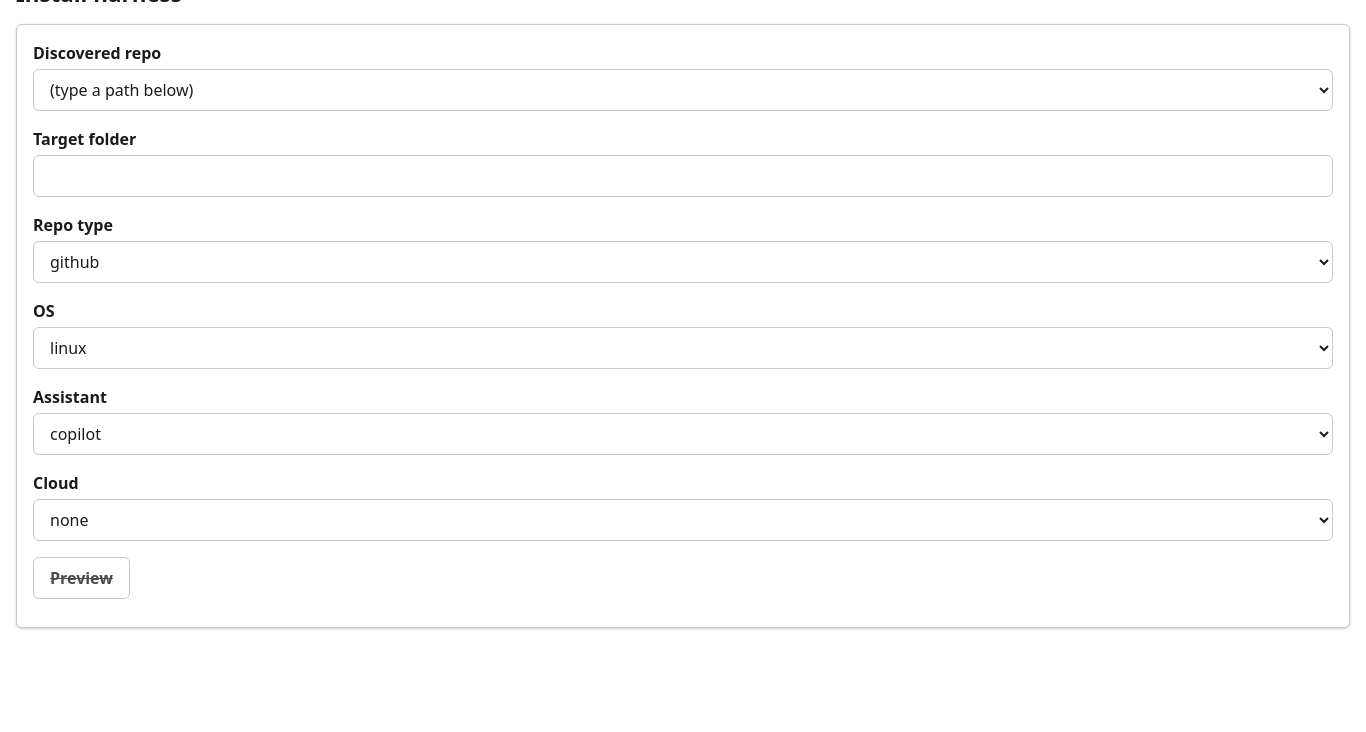
Scenario: preview, required overwrite, install, then rescan
In the field labelled "Target folder": point(683, 176) [33,155,1333,197], type "/repo"
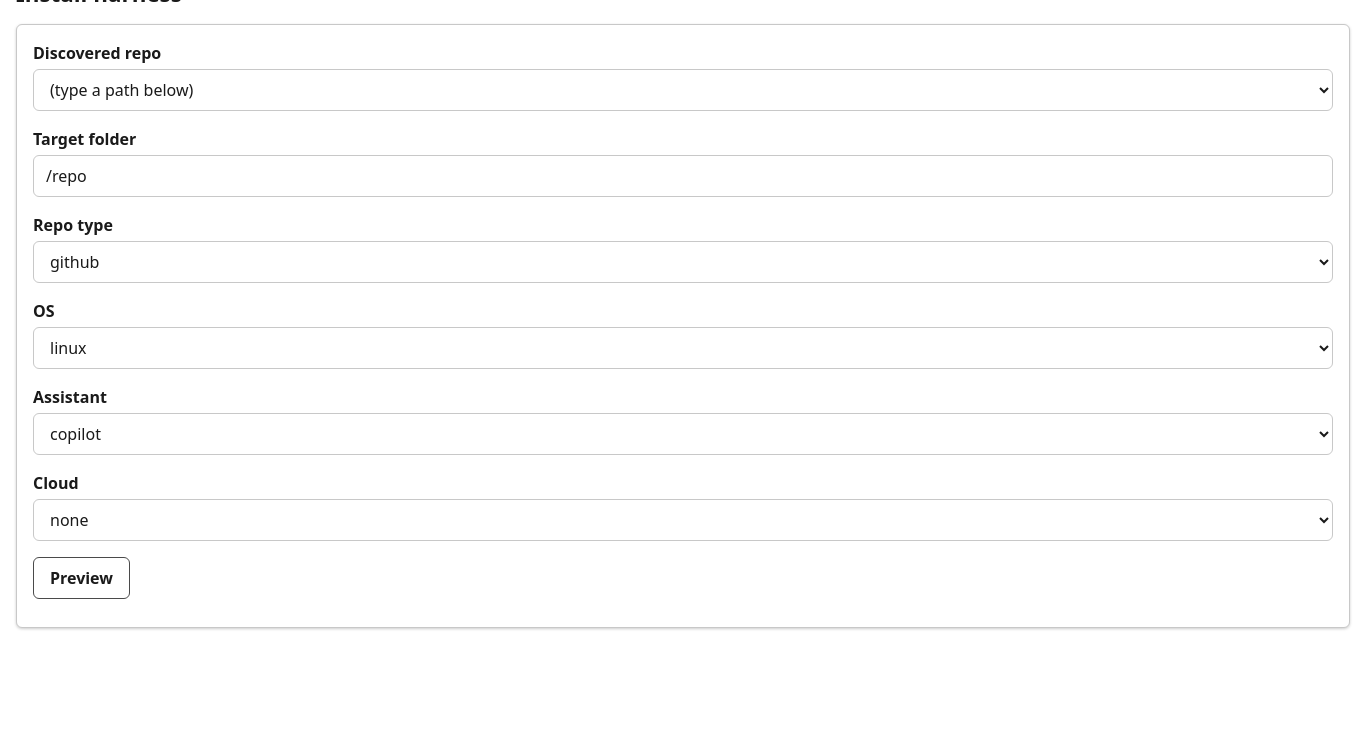
Select "aws" in the dropdown labelled "Cloud": point(683, 520) [33,499,1333,541]
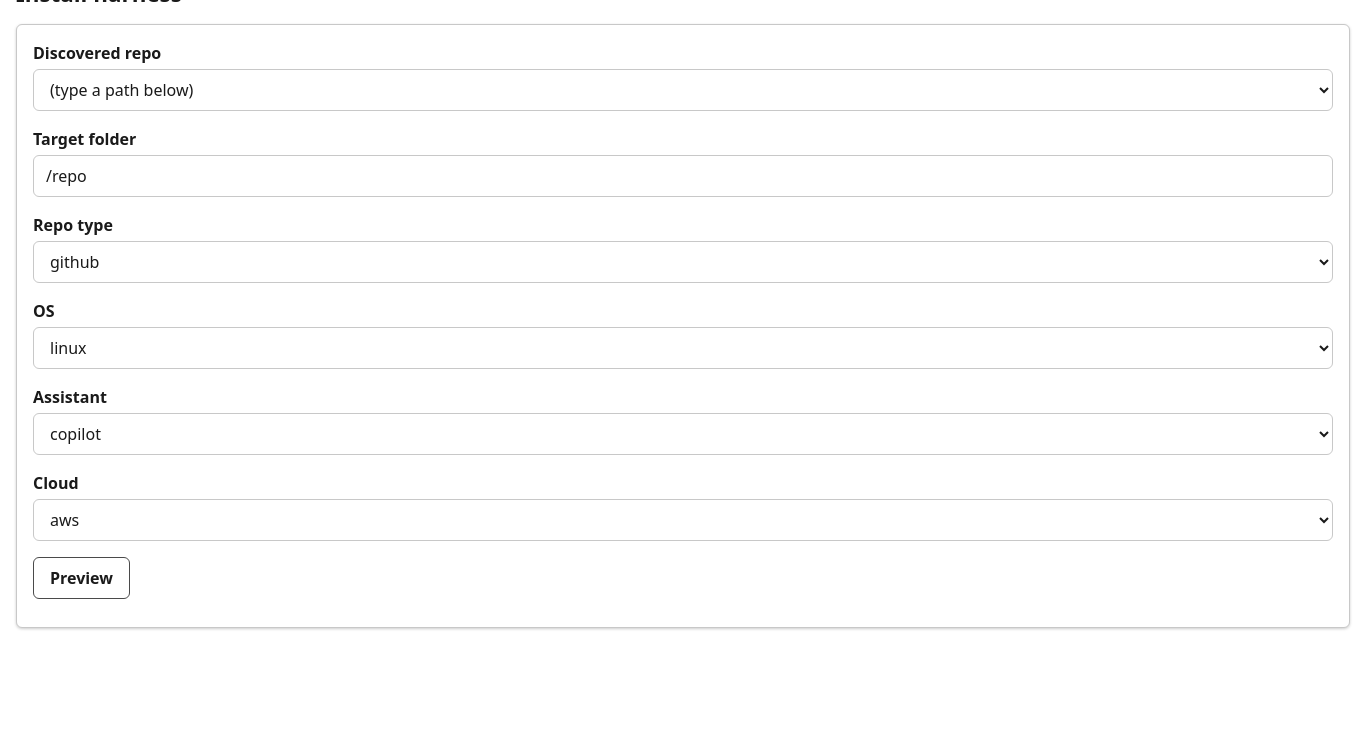
Click the button "Preview": point(82, 578) [33,557,130,599]
(page scrolled)
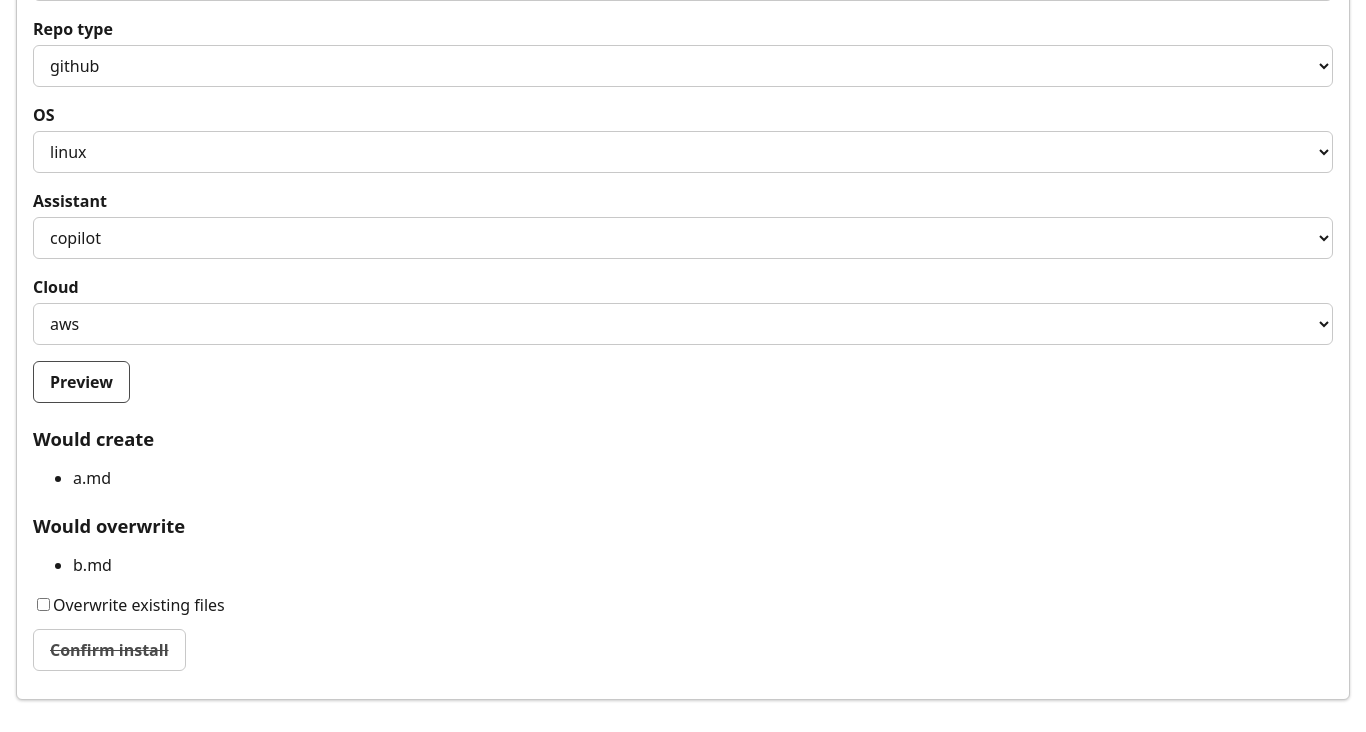
Check: the list item "b.md" is shown, box [73,554,112,576]
Check: the button "Confirm install" is disabled, box [33,629,186,671]
Click the checkbox labelled "Overwrite existing files": point(44, 604) [37,598,50,611]
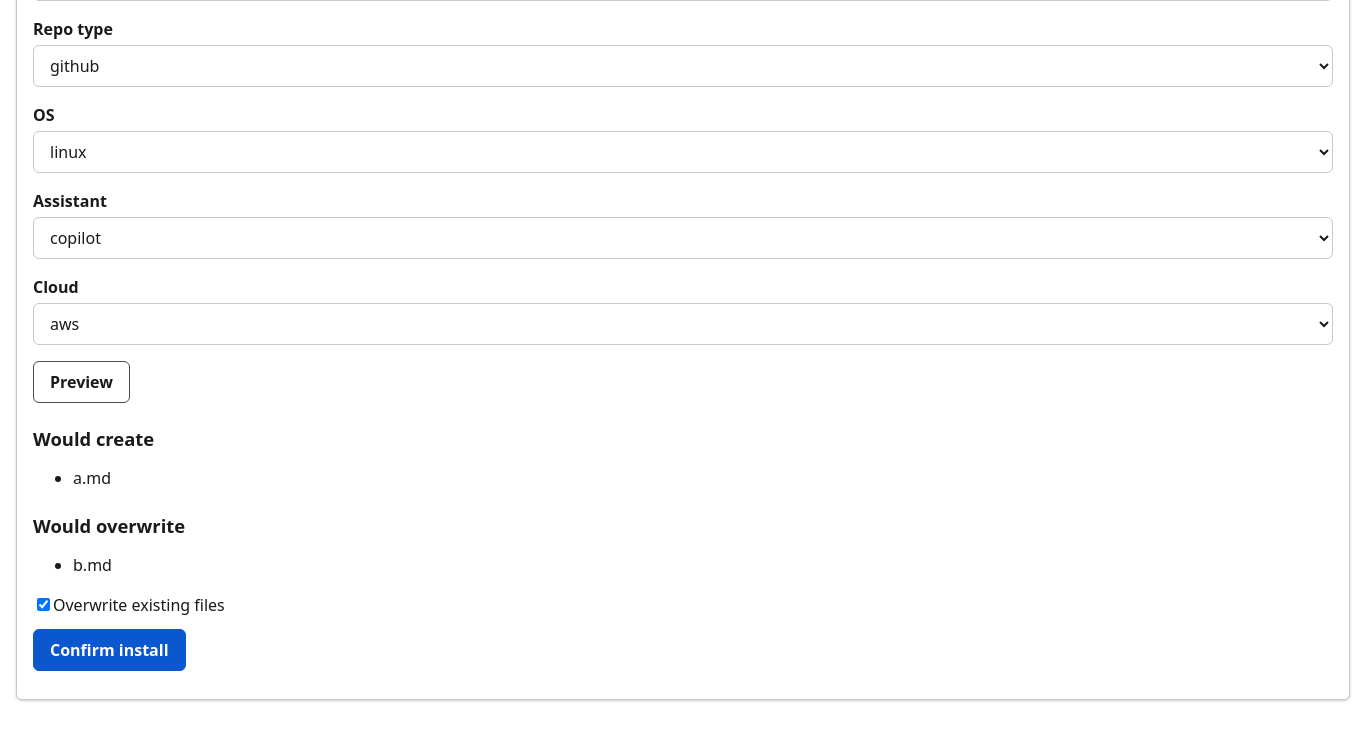
Check: the button "Confirm install" is enabled
Click the button "Confirm install": point(109, 650) [33,629,186,671]
(page scrolled)
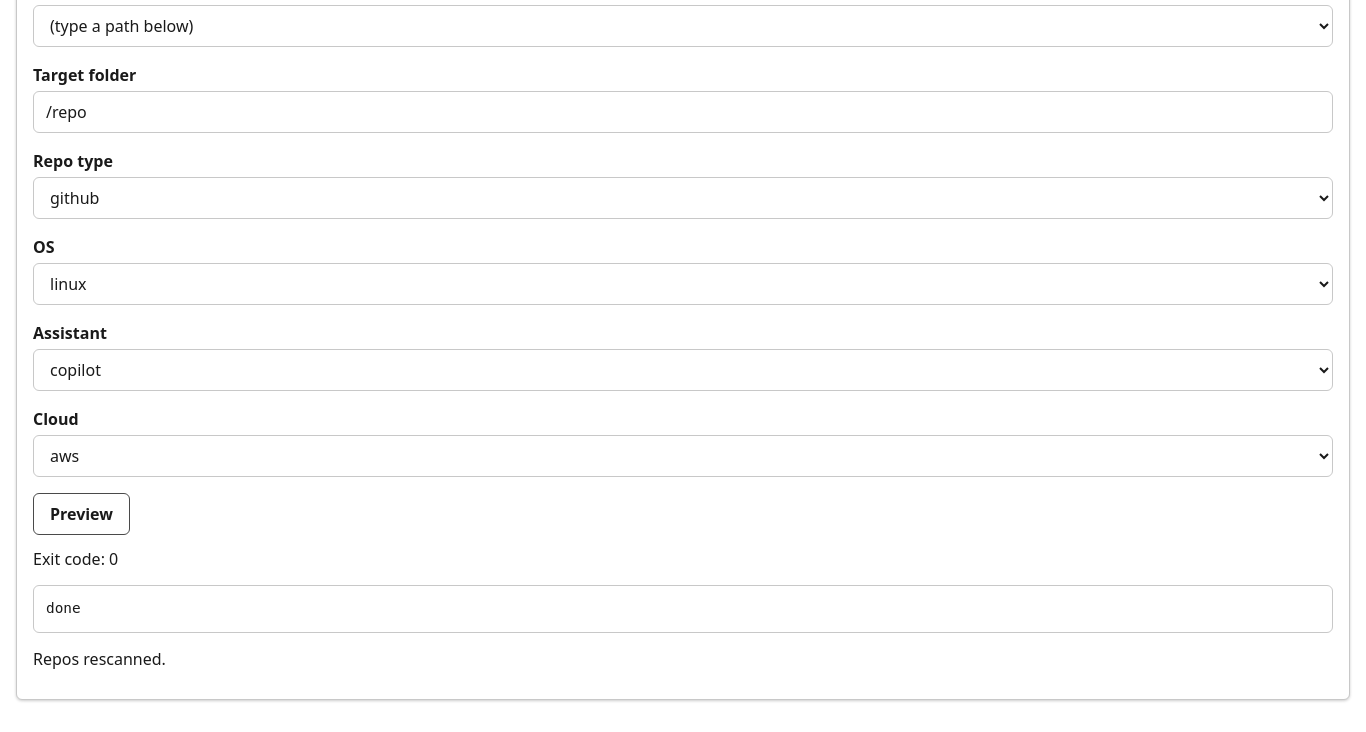
Check: the text "done" is shown, box [33,585,1333,633]
